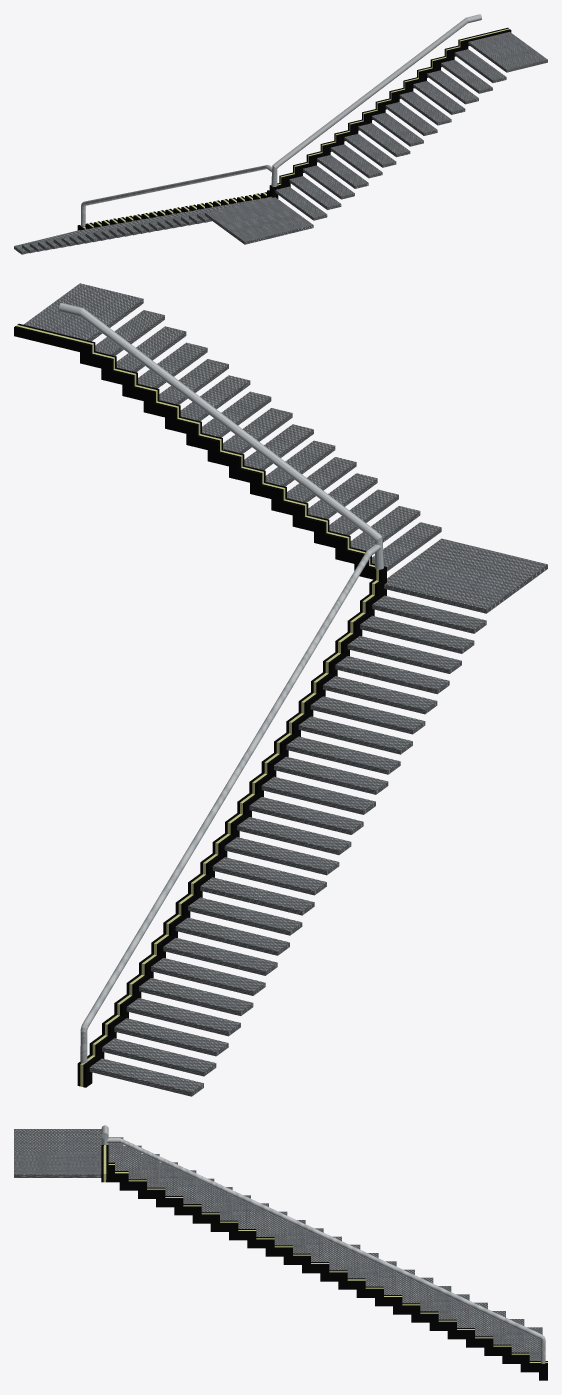
The model's file is Stairs4.fbx.
The picture shows the model from 3 angles, top to bottom: view 1: azimuth 30°, elevation 25°; view 2: azimuth 150°, elevation 25°; view 3: azimuth 270°, elevation 25°; orthographic projection. The views are drawn at different scales.
Parts seen in each view (by area): view 1: Cube_017, Cube_032, Cube_087, Cylinder, Cylinder_001; view 2: Cube_032, Cube_017, Cube_087, Cylinder_001, Cylinder; view 3: Cube_032, Cube_087, Cylinder_001, Cube_017.
Part boxes in pixels (x1,y1,x2,y2): Cube_017: (275, 32, 547, 220); Cube_032: (14, 196, 313, 254); Cube_087: (77, 27, 511, 230); Cylinder: (271, 14, 481, 186); Cylinder_001: (81, 165, 272, 226); Cube_032: (89, 538, 547, 1096); Cube_017: (23, 283, 441, 571); Cube_087: (14, 323, 386, 1087); Cylinder_001: (80, 544, 381, 1063); Cylinder: (58, 303, 383, 569); Cube_032: (14, 1129, 542, 1360); Cube_087: (101, 1145, 547, 1380); Cylinder_001: (106, 1138, 545, 1363); Cube_017: (14, 1151, 101, 1177).
Size of the model in its own units: 2210 by 2189 by 2930.
